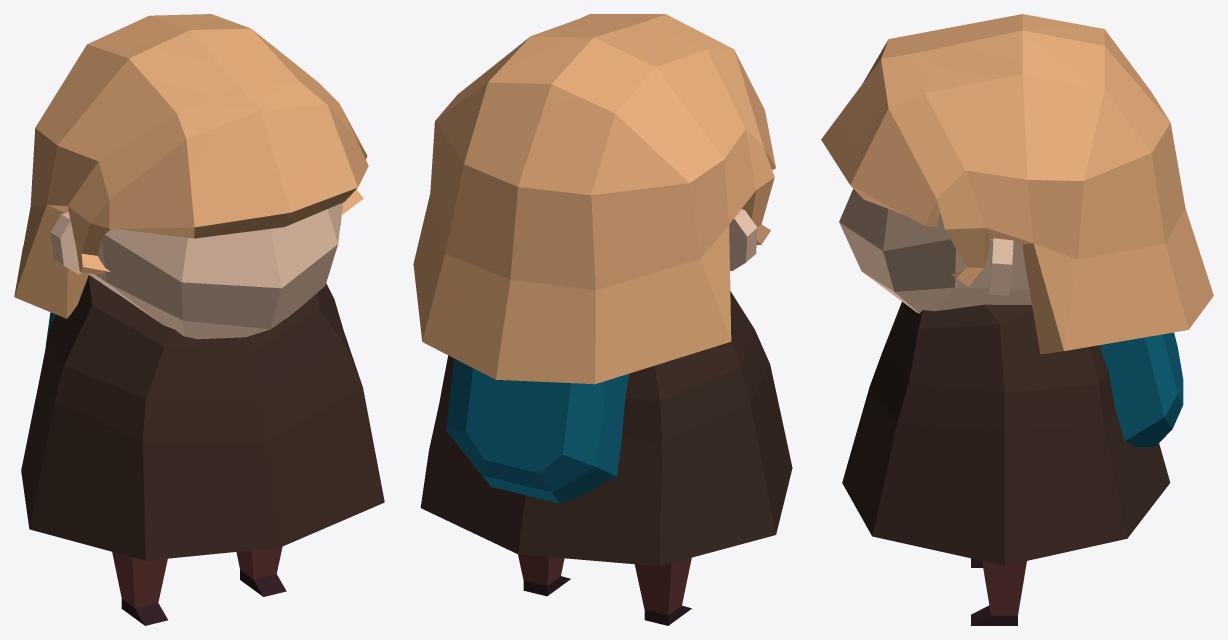
The model's file is turisti.glb.
3 views of the same model, side by side, from view 1: azimuth 30°, elevation 25°; view 2: azimuth 150°, elevation 25°; view 3: azimuth 270°, elevation 25° (orthographic). The views are drawn at different scales.
Parts seen in each view (by area): view 1: Cube; view 2: Cube; view 3: Cube.
Boxes of the visible parts, <box> form: Cube: <box>14,14,384,625</box>; Cube: <box>413,14,792,625</box>; Cube: <box>821,14,1213,625</box>.
Bounding box in the file's own units: 1.23 × 1.95 × 1.23.
